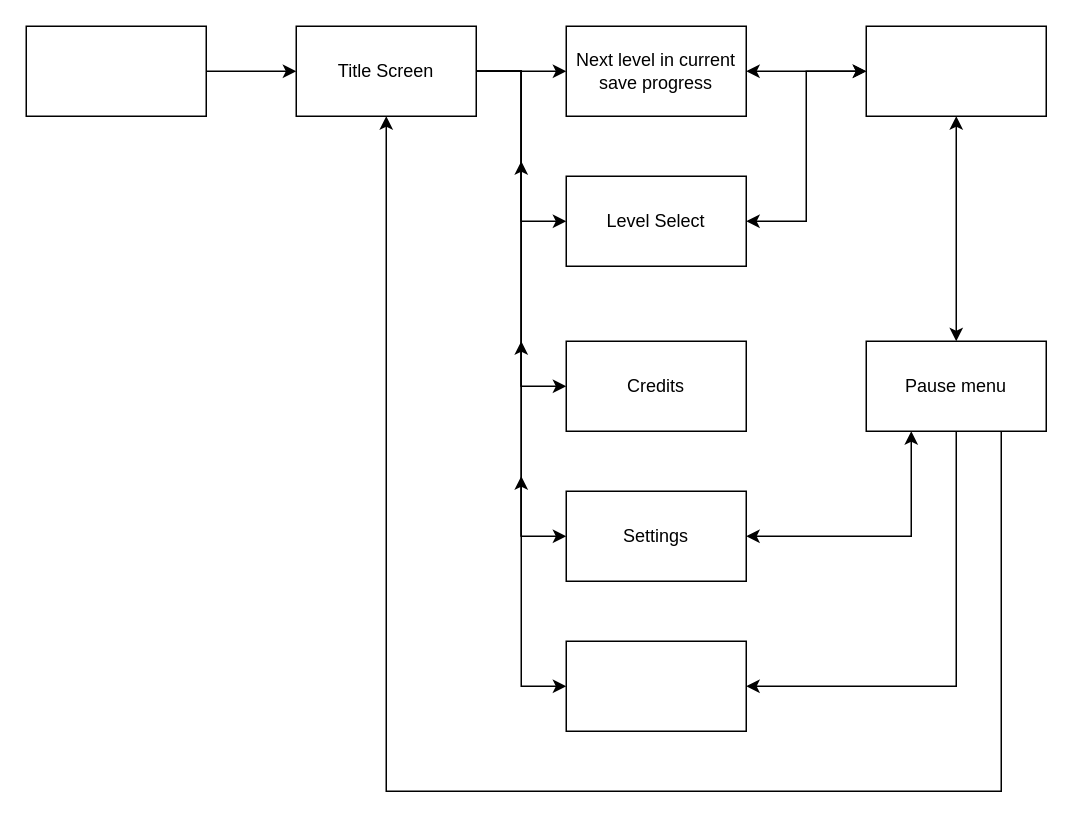
Image size: 1073x830. Some labels were removed from this diagram. The centre of each missing label's shape, as x and y in pixels:
Level: point (955, 70)
Quit to desktop: point (655, 685)
Splash Screen: point (115, 70)
